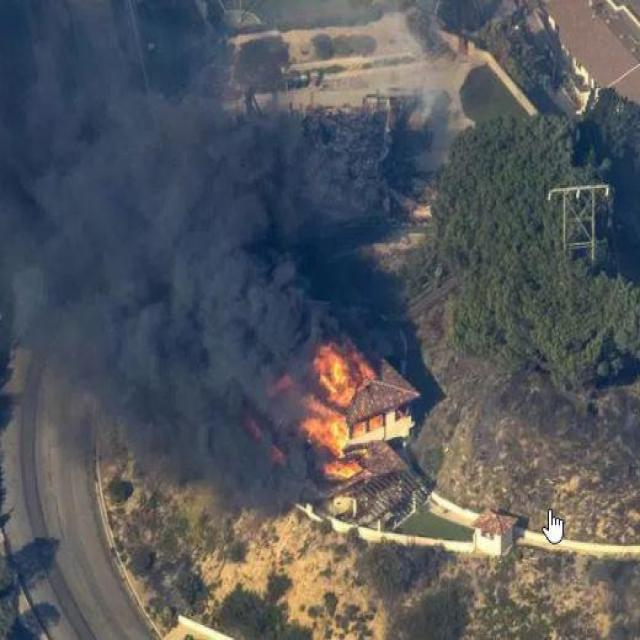Fire: (315, 412, 414, 444), (314, 345, 354, 410), (359, 352, 377, 388), (328, 461, 360, 481)
Smoke: (0, 9, 279, 392), (254, 110, 434, 230)
